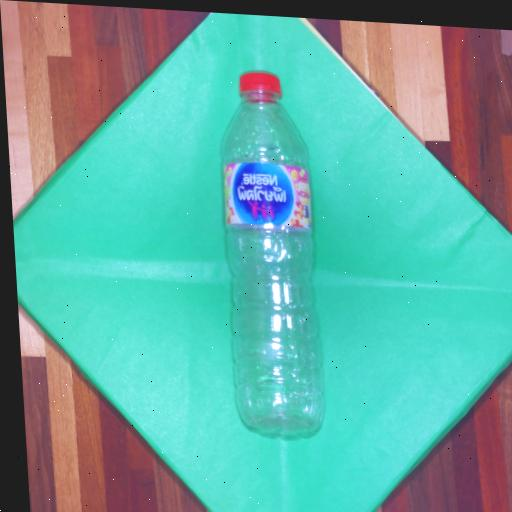bottle: (221, 72, 322, 436)
